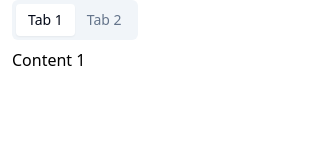
Scenario: Tabs › should switch tabs when clicked
Click the tab "Tab 2" at (104, 20), box [75, 4, 134, 36]
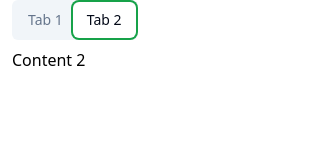
Result: the text "Content 2" is shown at [12, 49, 86, 71]
Result: the text "Content 1" is gone
